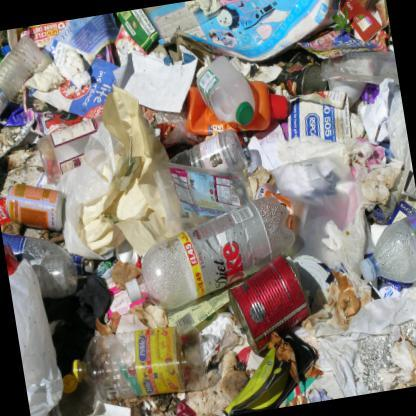Garbage: (0, 0, 415, 415), (184, 36, 374, 182), (0, 169, 110, 415), (30, 37, 180, 191), (302, 97, 415, 261), (72, 306, 236, 414), (148, 199, 294, 306), (154, 113, 270, 239), (22, 32, 137, 147), (217, 314, 327, 412), (121, 31, 195, 112), (354, 137, 404, 207), (337, 0, 393, 56), (85, 389, 202, 415), (318, 278, 367, 321), (390, 335, 415, 380)
